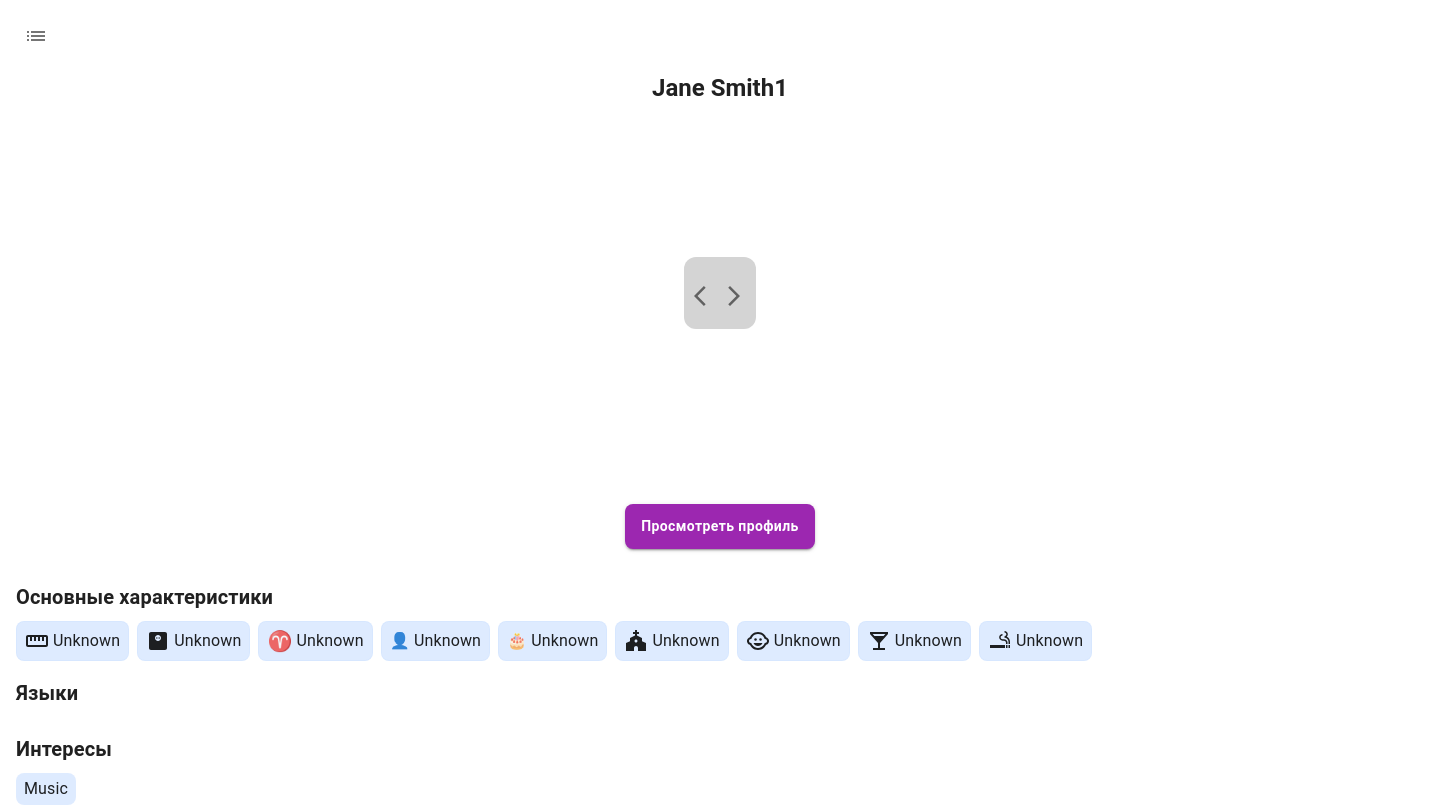
Scenario: MatchesPage › opens and closes the match list
Note: Поиск кнопки с актуальным текстом
Click the button named "open match list" at {"x": 36, "y": 36}, box [16,16,56,56]
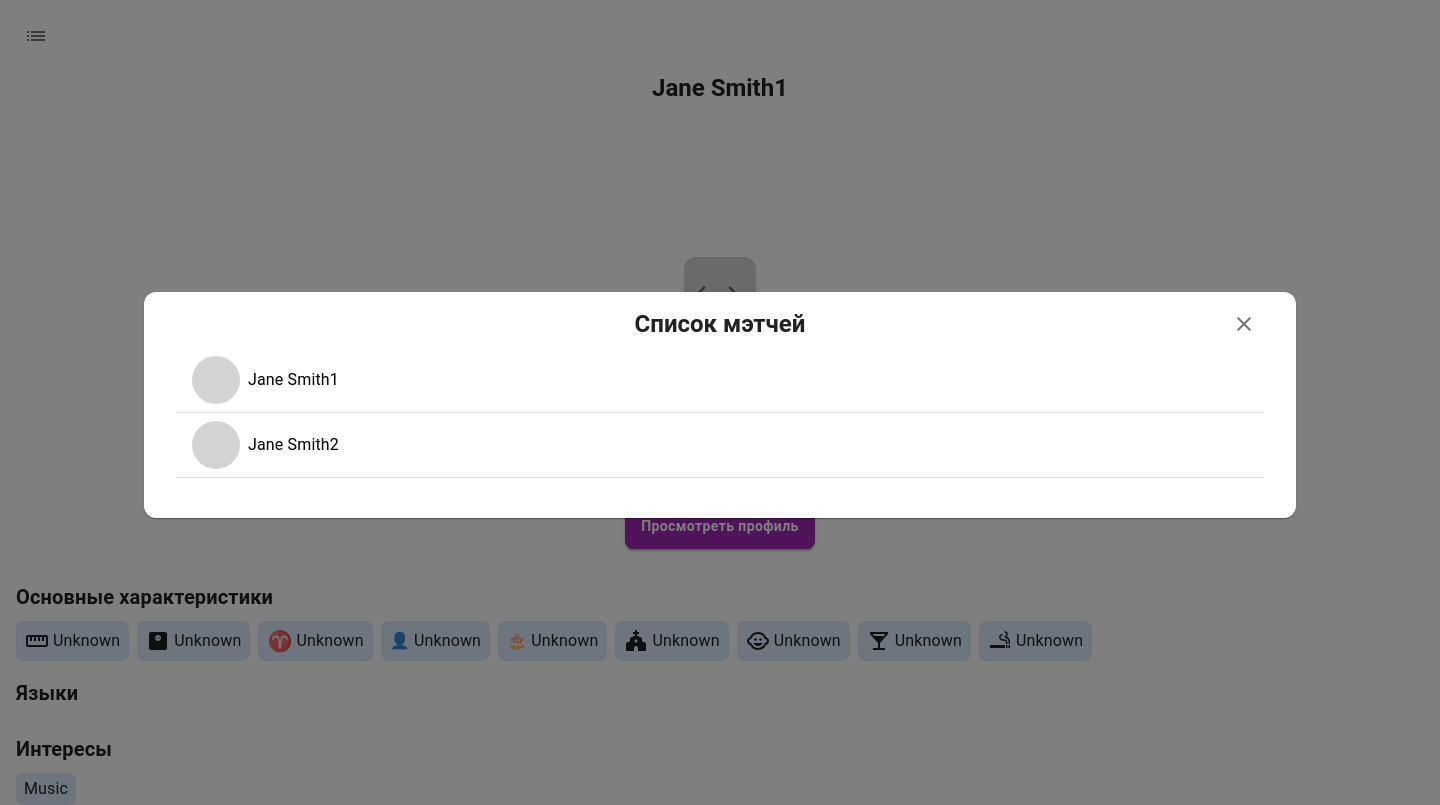
Result: the heading "Список мэтчей" is shown at [634,308,805,340]
Note: Поиск кнопки для закрытия списка
Click the button named "close match list" at {"x": 1244, "y": 324}, box [1224,304,1264,344]
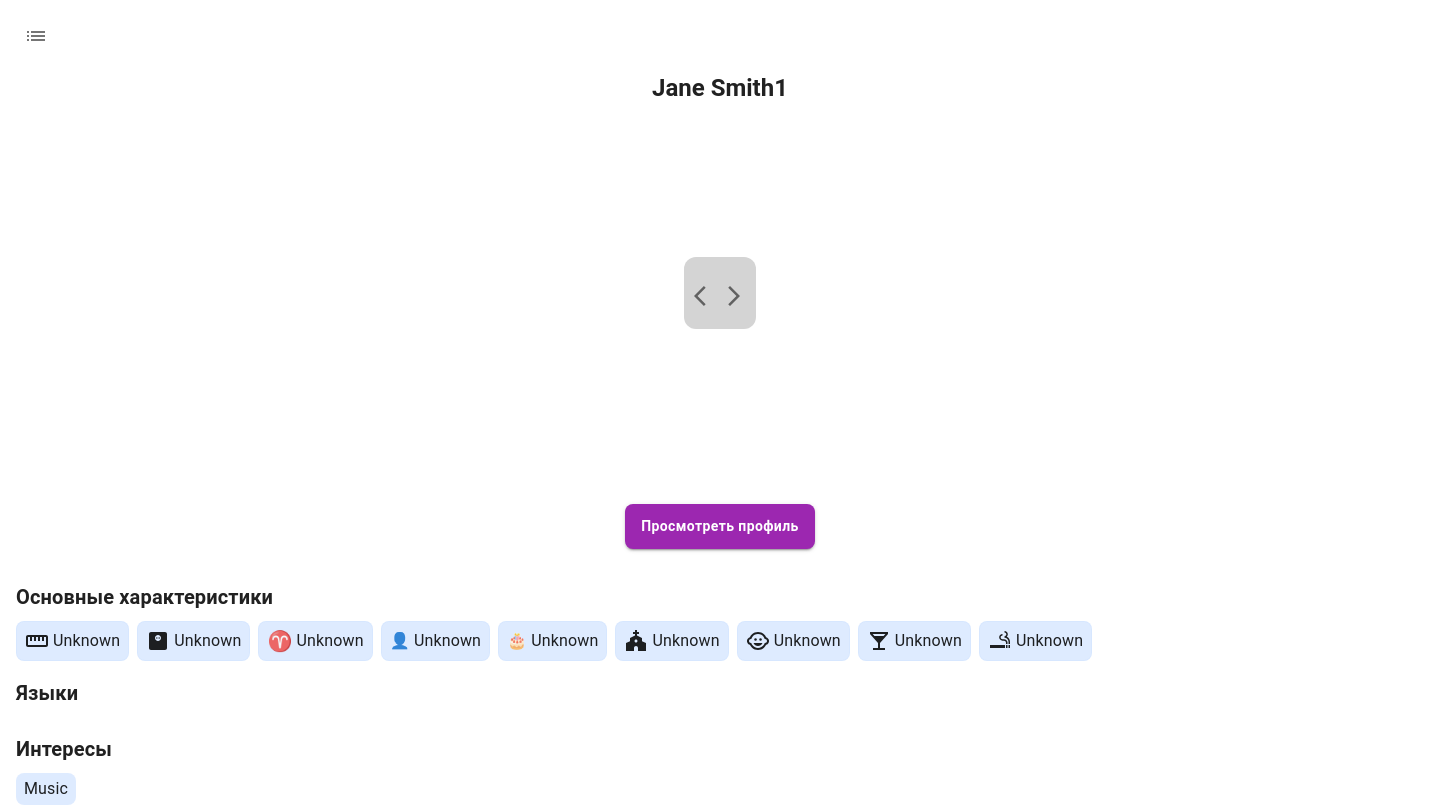
Result: the heading "Список мэтчей" is gone
